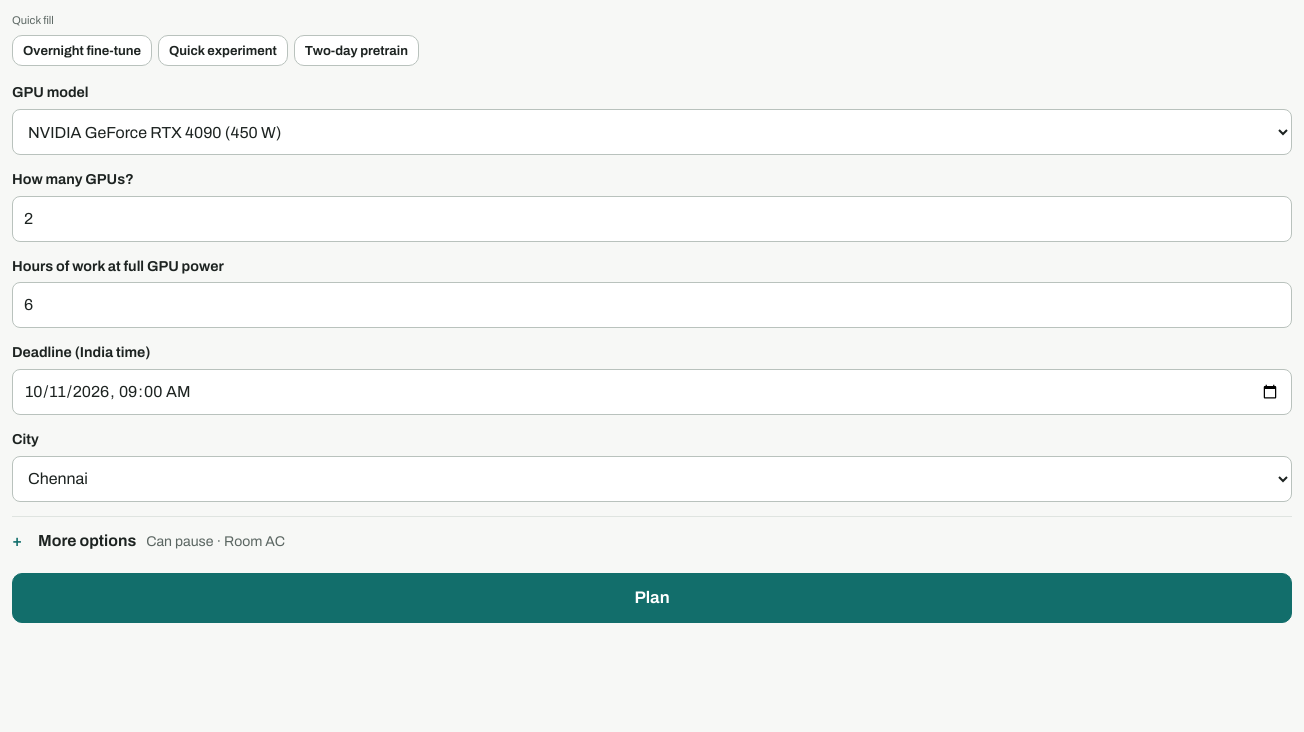
Test: JobForm bad input › announces the problems in an alert and moves focus to the first invalid field
# The deadline is wrong too, but it comes after the GPU count in the form.
Clear the field labelled "Deadline (India time)" at [652, 392], box [12,369,1292,415]
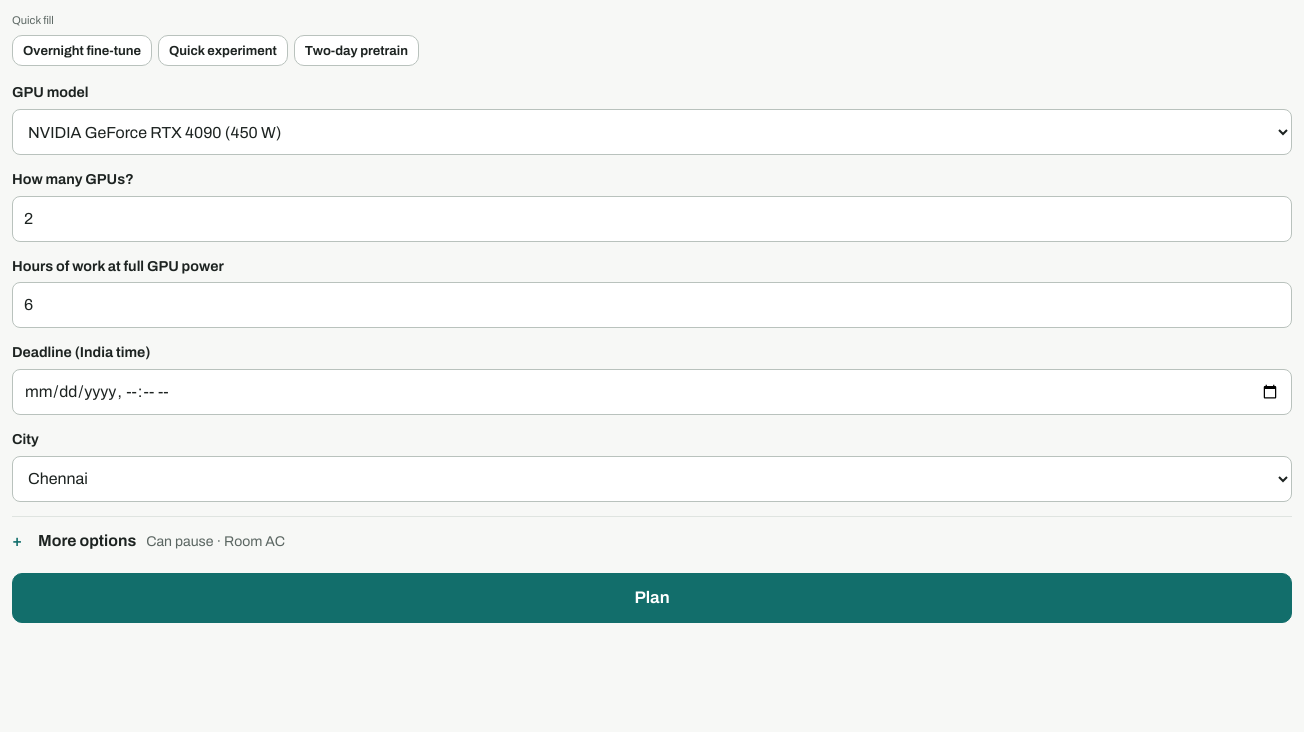
Replace the text in the number field labelled "How many GPUs?" with "0" at [652, 219], box [12,196,1292,242]
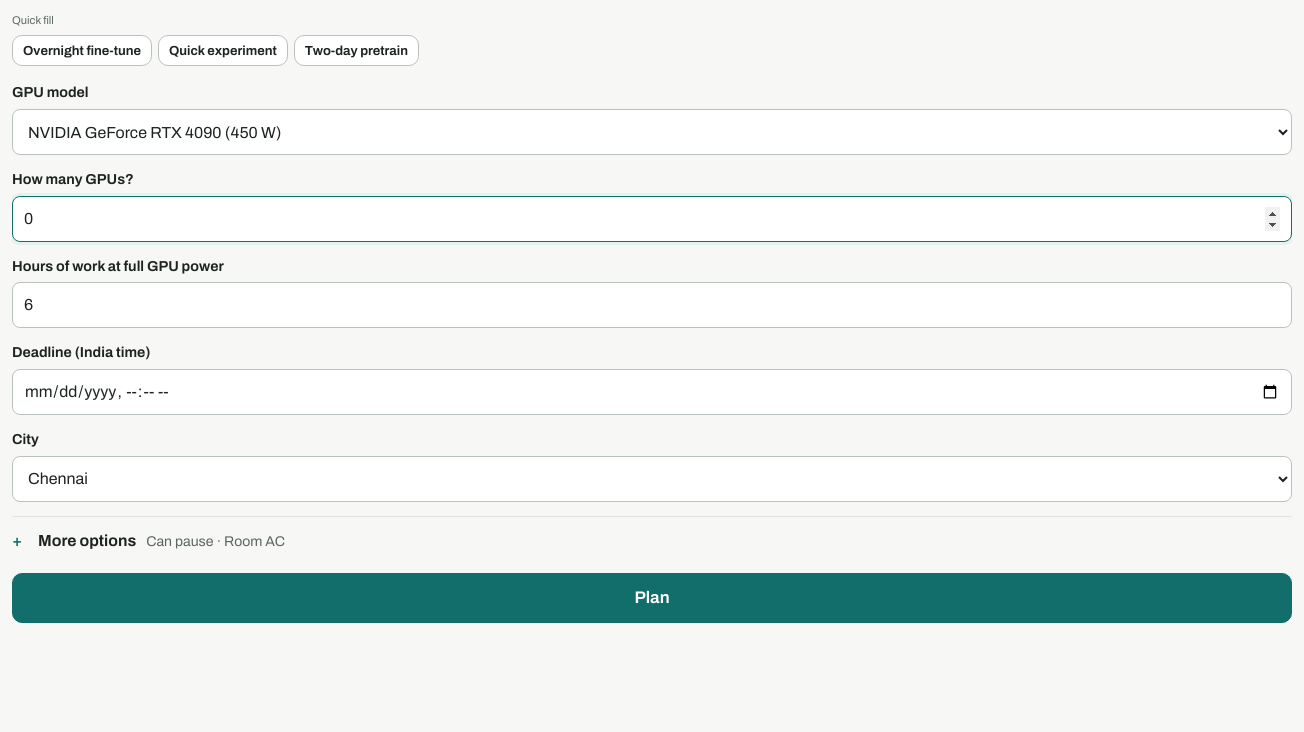
Click the button "Plan" at [652, 598], box [12,572,1292,622]
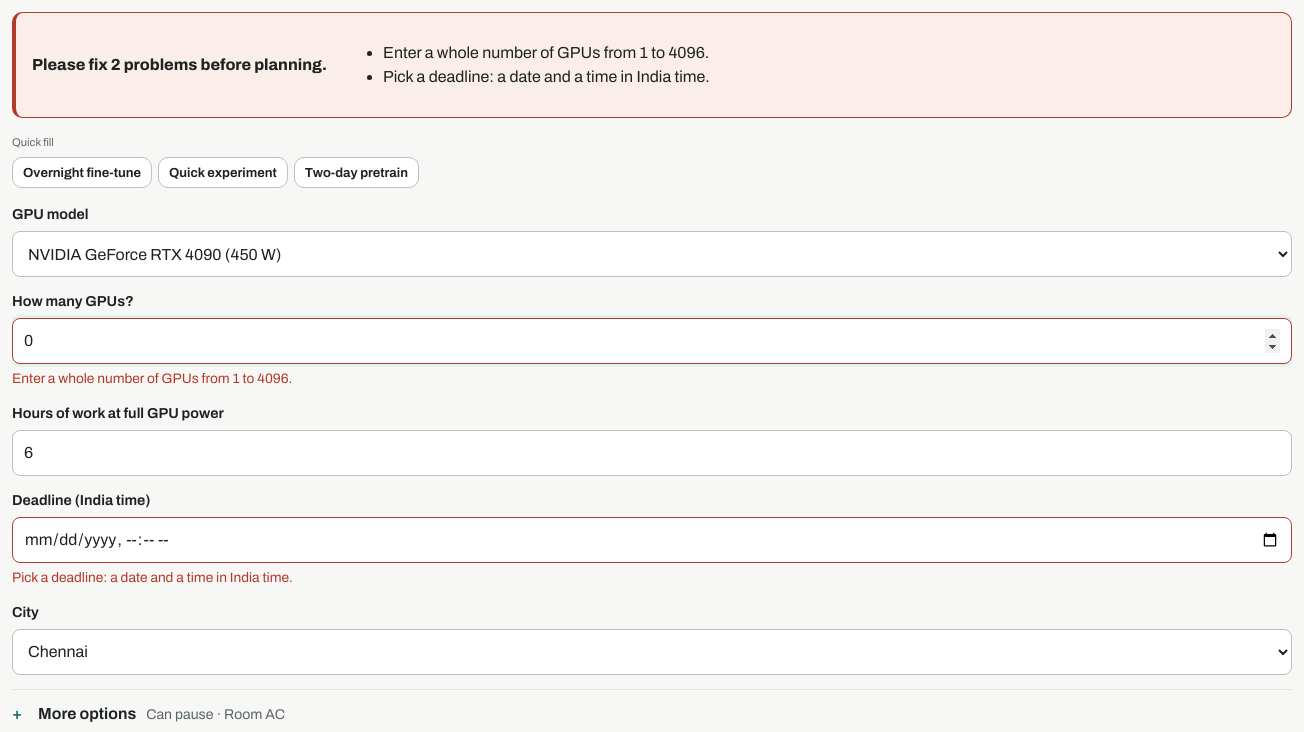
Result: the message shows "2 problems" at [32,56,327,73]
Result: the message shows "whole number of GPUs" at [383,44,709,61]
Result: the message shows "pick a deadline" at [383,68,710,85]
